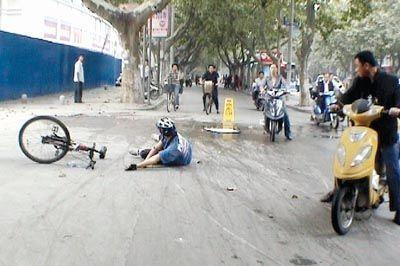Fall-Detected: (124, 110, 196, 174)
